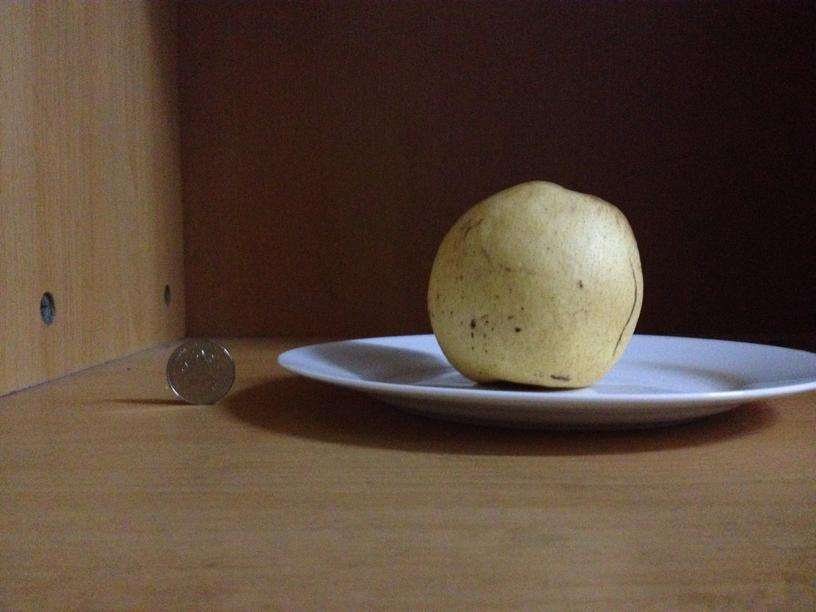coin: (162, 336, 235, 406)
pear: (424, 174, 643, 390)
